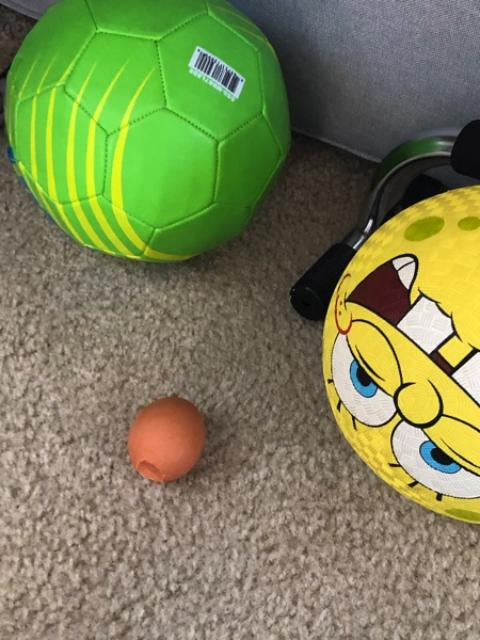Roto: (126, 395, 206, 483)
